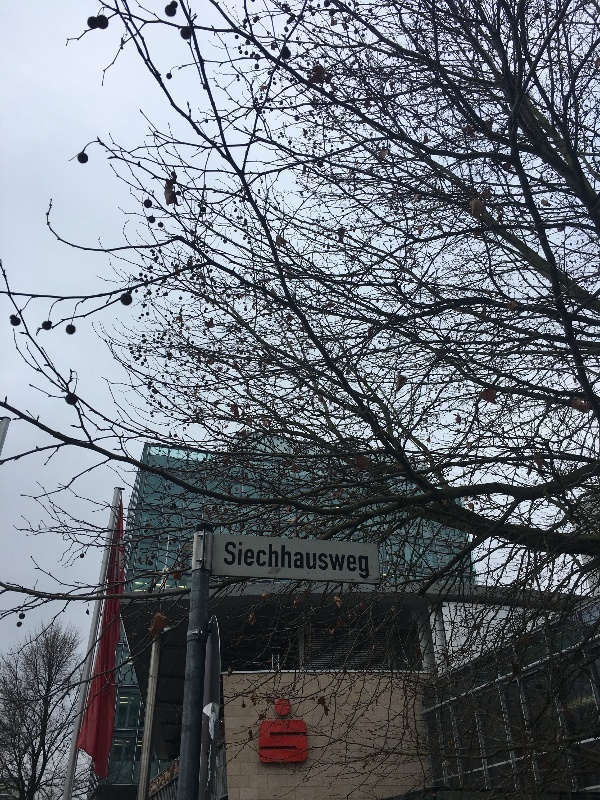text: (353, 538, 369, 581), (241, 538, 256, 581), (257, 538, 272, 581), (273, 538, 288, 581), (289, 538, 304, 581), (305, 538, 320, 581), (321, 538, 336, 581), (337, 538, 352, 581), (273, 720, 288, 763), (289, 720, 304, 763), (226, 538, 240, 581), (259, 720, 272, 763), (276, 698, 288, 717), (305, 720, 308, 763), (289, 698, 291, 717)
